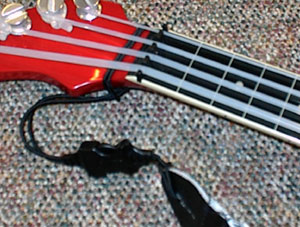guitar: (1, 1, 300, 146)
